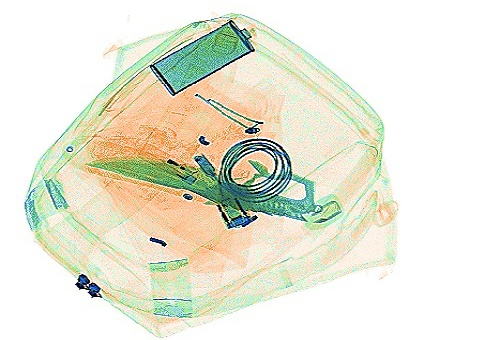knife: (83, 148, 322, 220)
lighter: (136, 142, 199, 184)
zippooil: (146, 19, 256, 96)
